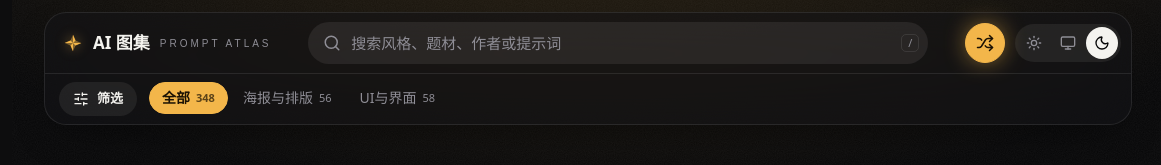
F02 F12 筛选面板 › 分类按钮写入 URL 并带计数
The width and height of the screenshot is (1161, 165).
Click the button "海报与排版 56". click: (287, 98)
box: x1=230 y1=82 x2=344 y2=114
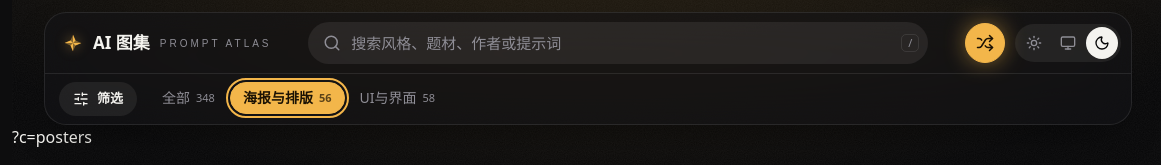
Check: the text with test id "search" shows "c=posters", box x1=12 y1=126 x2=92 y2=148
